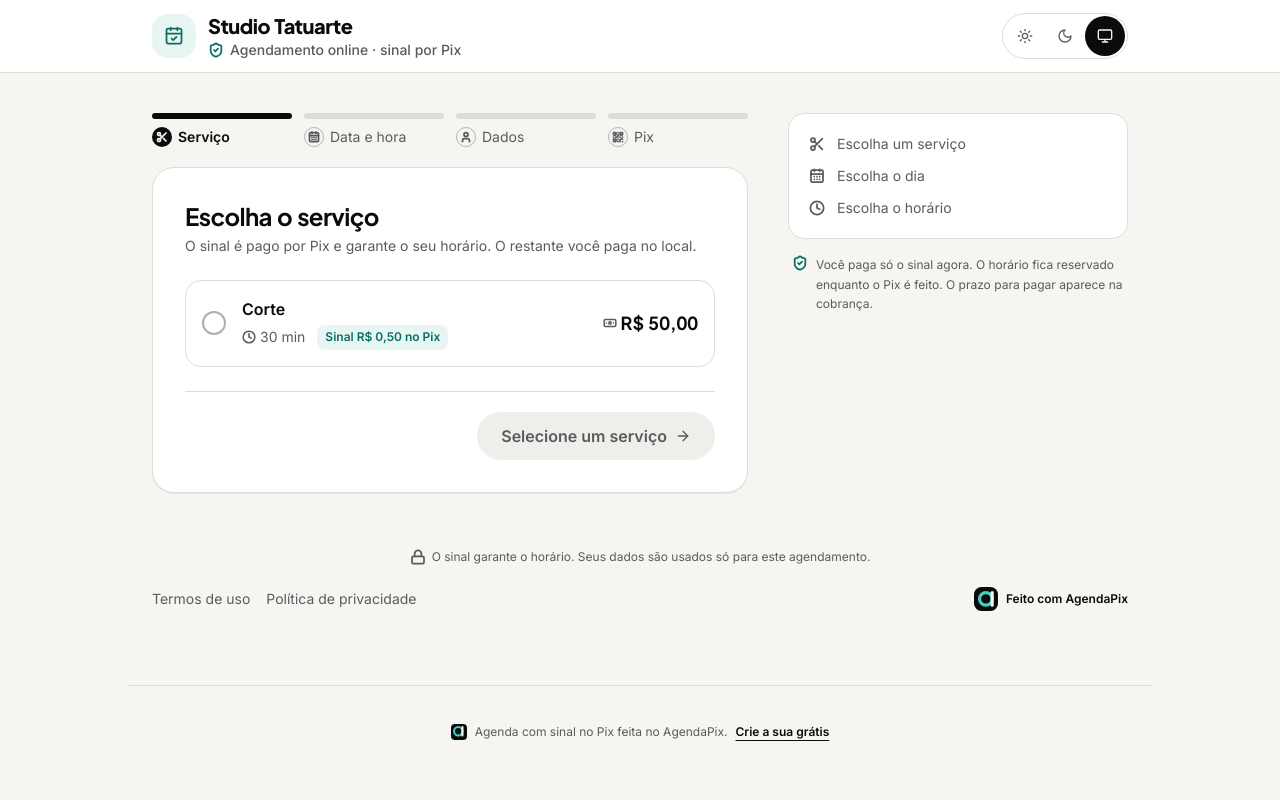
Test case: pagamento cancelado continua na tela de cobrança cancelada
Click the radio button labelled "Corte 30 min Sinal R$ 0,50 no Pix R$ 50,00" at {"x": 450, "y": 323}, box [185,280,715,366]
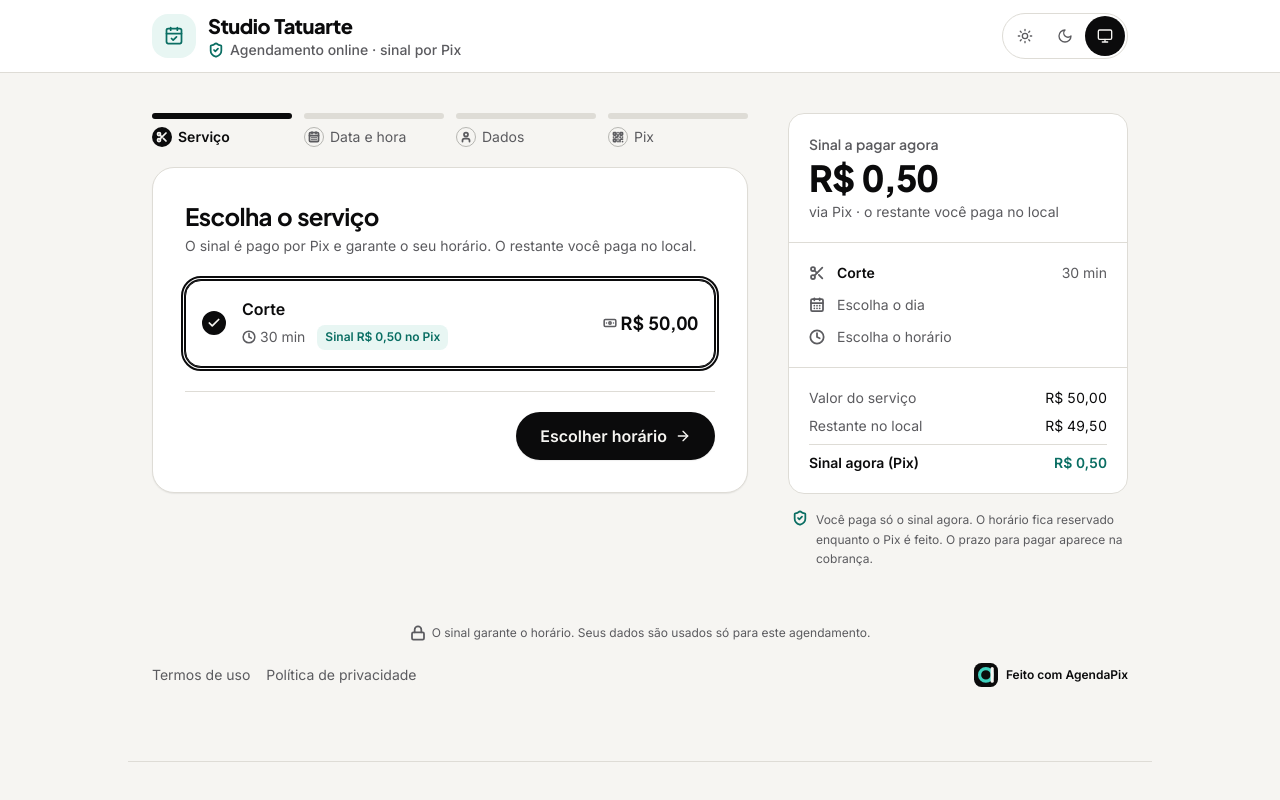
Click the button "Escolher horário" at {"x": 616, "y": 436}, box [516,412,715,460]
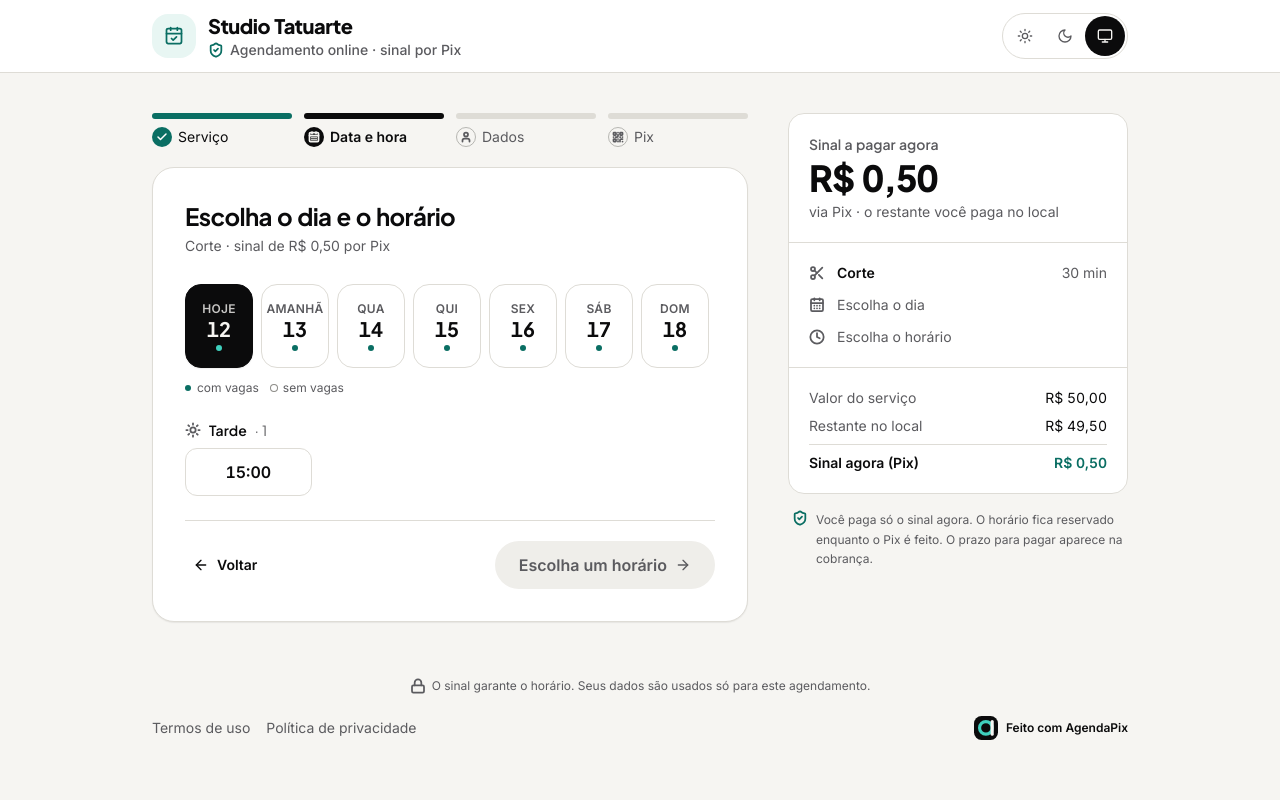
Click the radio button labelled "15:00" at {"x": 248, "y": 472}, box [185,448,312,496]
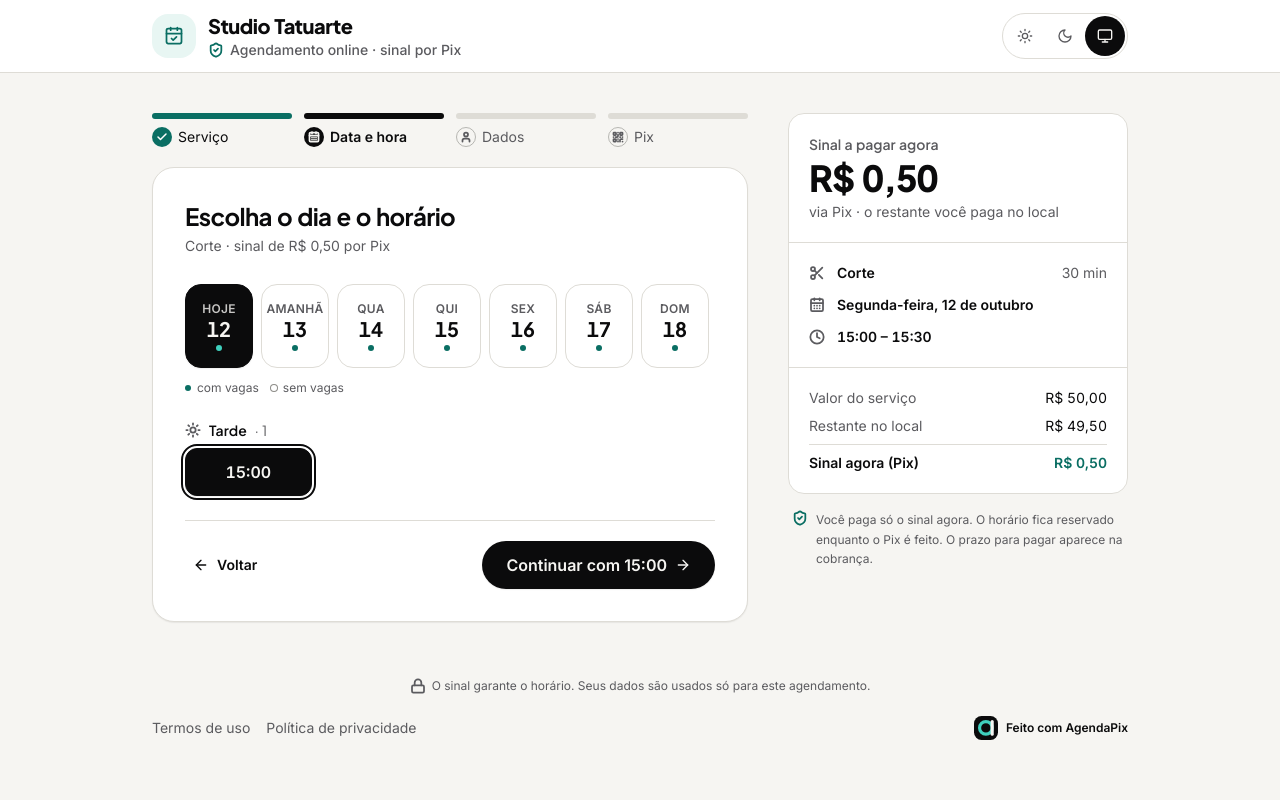
Click the button "Continuar com 15:00" at {"x": 599, "y": 565}, box [482,541,715,589]
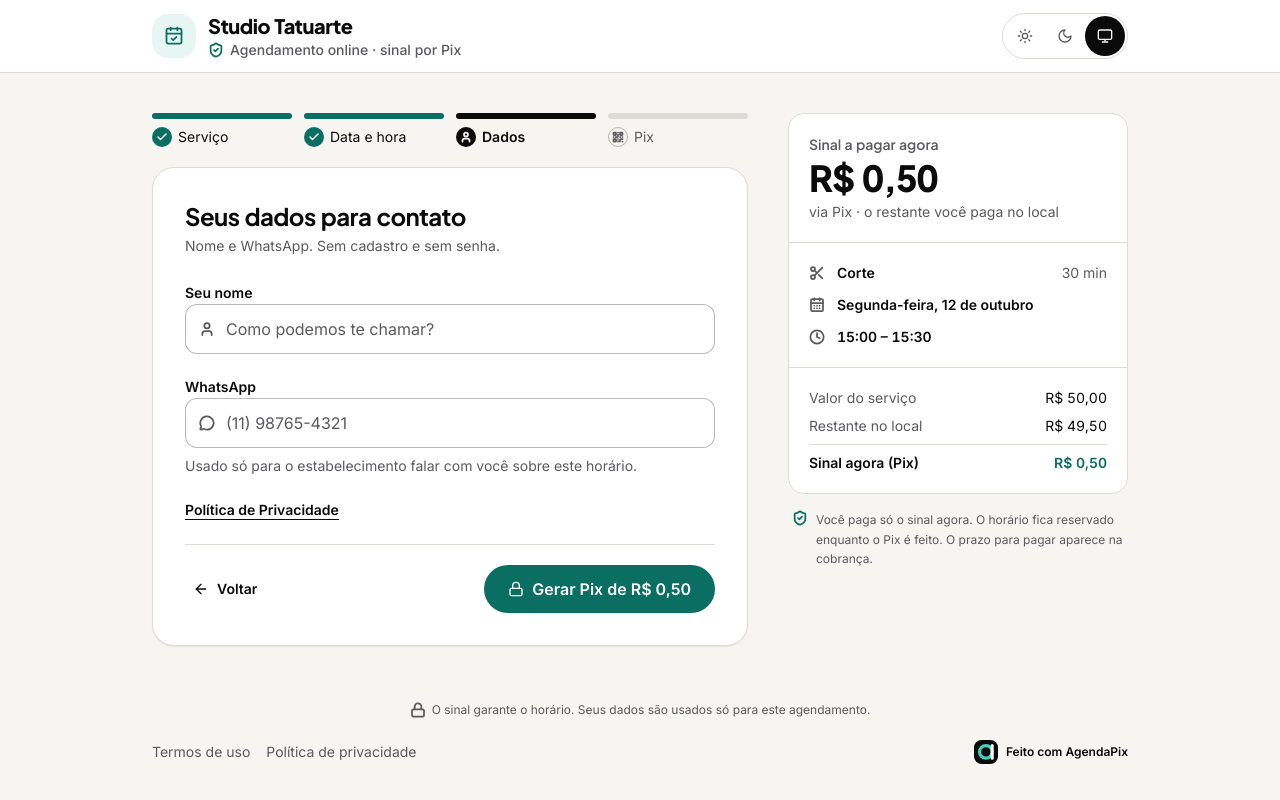
Type "Matheus" into the field labelled "Seu nome" at {"x": 450, "y": 329}, box [186,305,714,353]
Type "14997504655" into the field labelled "WhatsApp" at {"x": 450, "y": 423}, box [186,399,714,447]
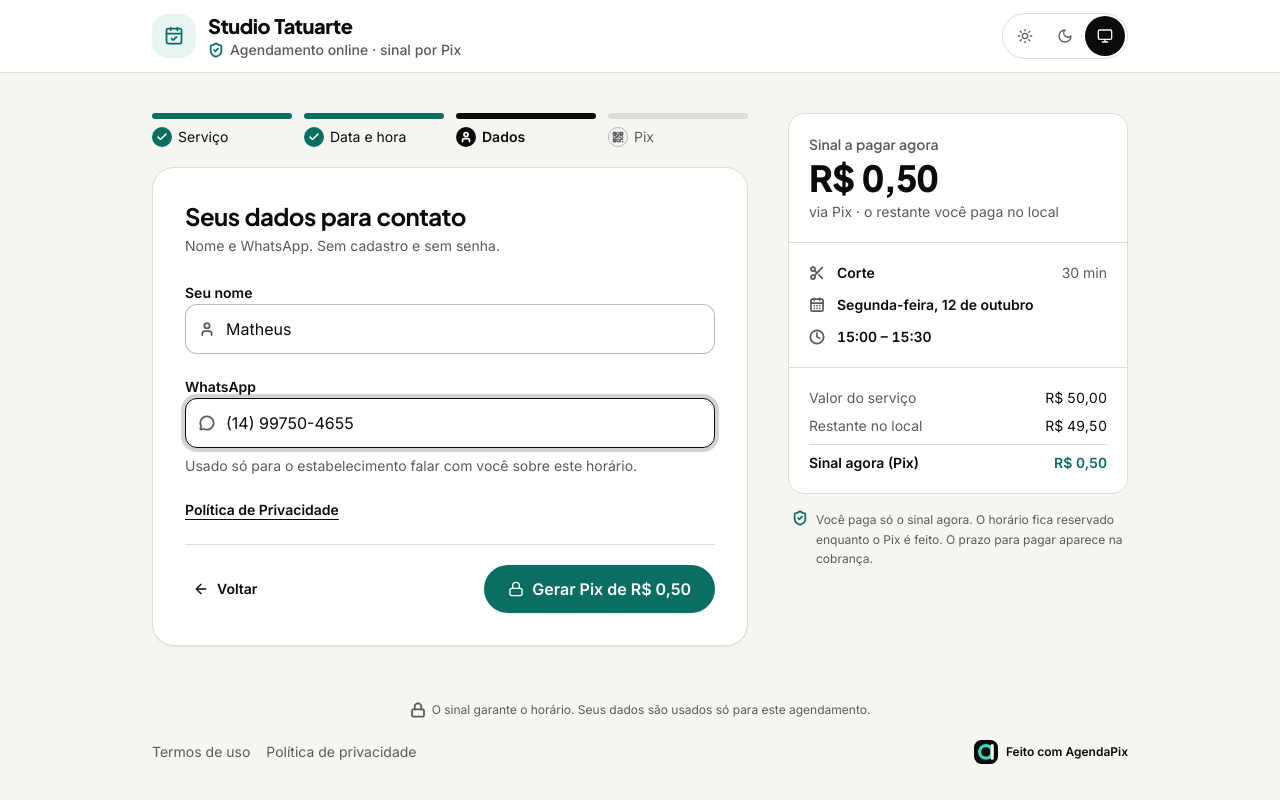
Click the button "Gerar Pix de R$ 0,50" at {"x": 600, "y": 589}, box [484,565,715,613]
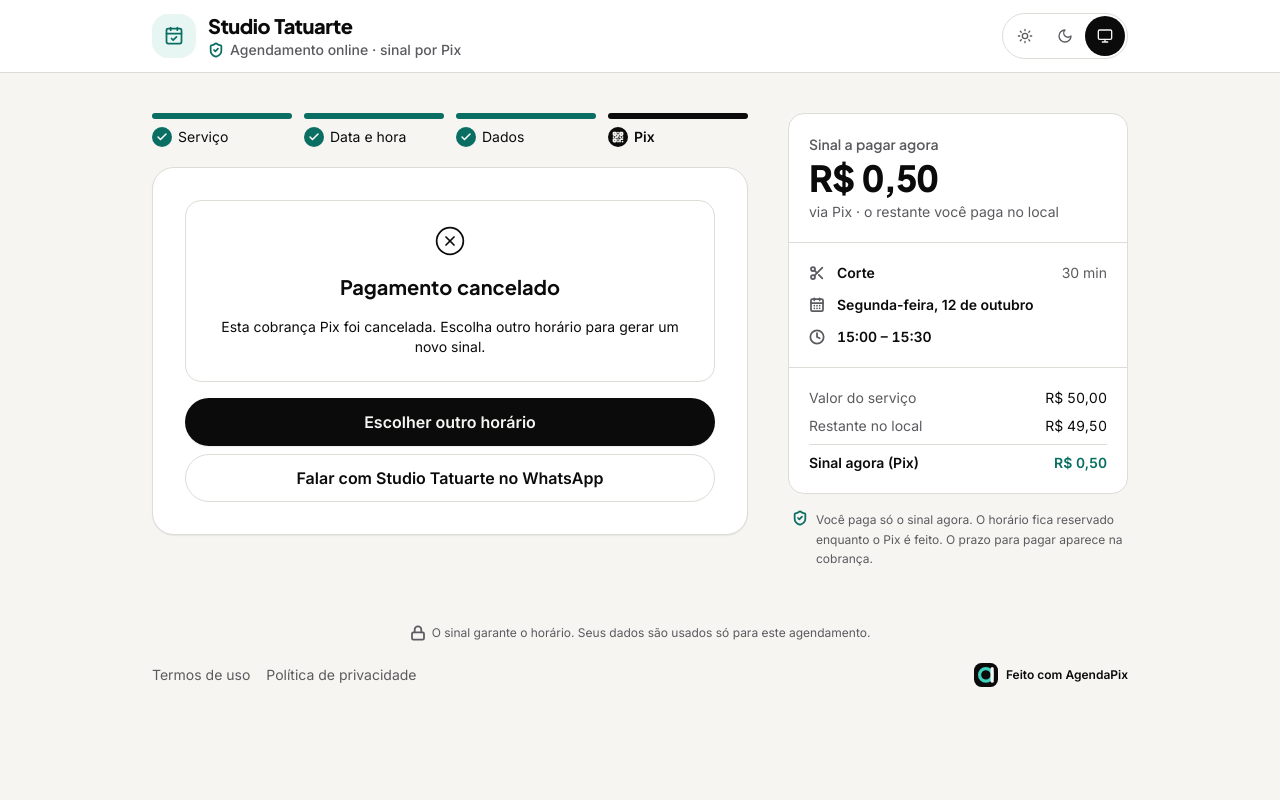
Now the heading "Pagamento cancelado" is shown, box [340,274,560,299]
Now the text "Esta cobrança Pix foi cancelada" is shown, box [221,318,679,355]
